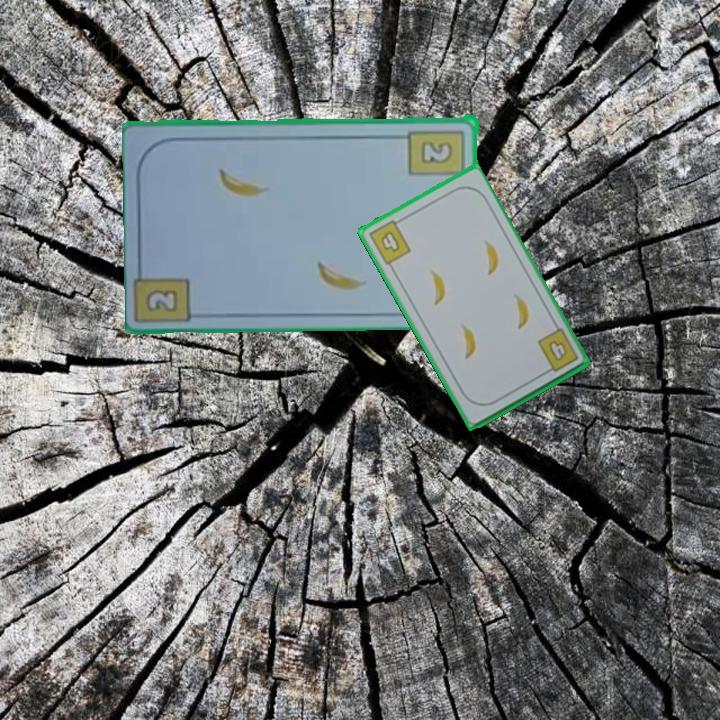2b: (406, 126, 468, 187), (142, 286, 182, 315)
4b: (365, 215, 414, 268), (533, 324, 581, 377)
